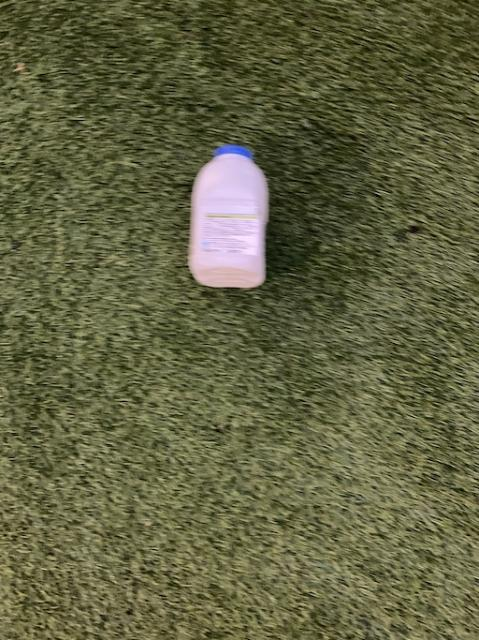plastic: (188, 144, 267, 286)
